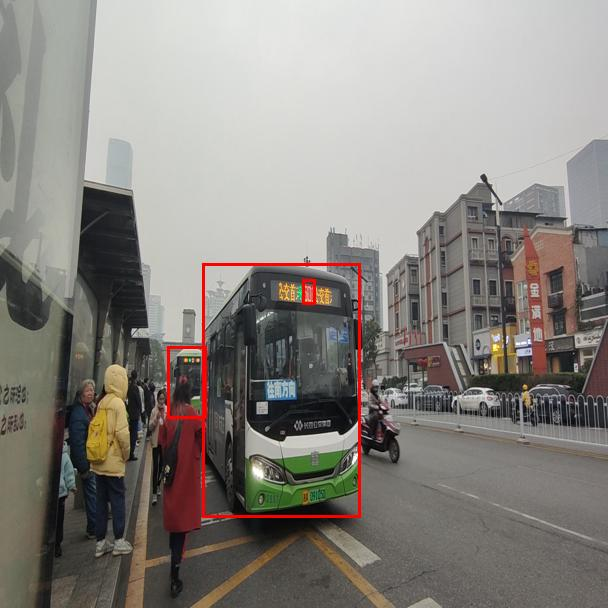bus: (202, 263, 360, 517), (167, 346, 206, 418)
screen: (302, 279, 315, 304)
